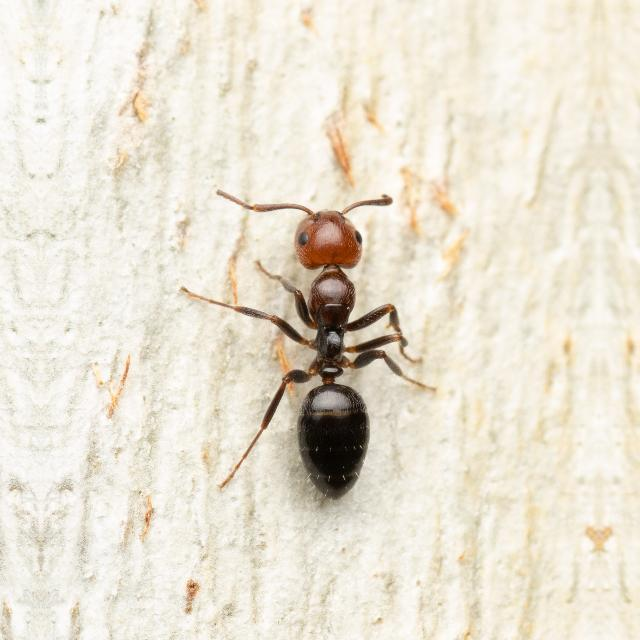Camponotus: (250, 160, 408, 502)
